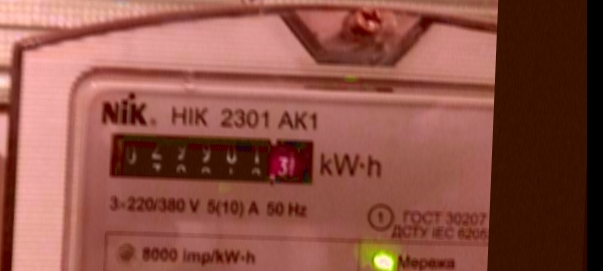0: (222, 139, 237, 165), (121, 142, 138, 164)
1: (247, 141, 261, 165)
2: (146, 140, 163, 160)
3: (274, 153, 288, 176)
9: (197, 140, 212, 163), (172, 139, 185, 162)
screen: (94, 121, 324, 194)
